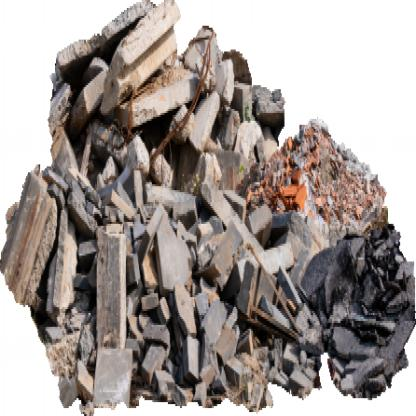cementitious_debris: (2, 0, 386, 404)
